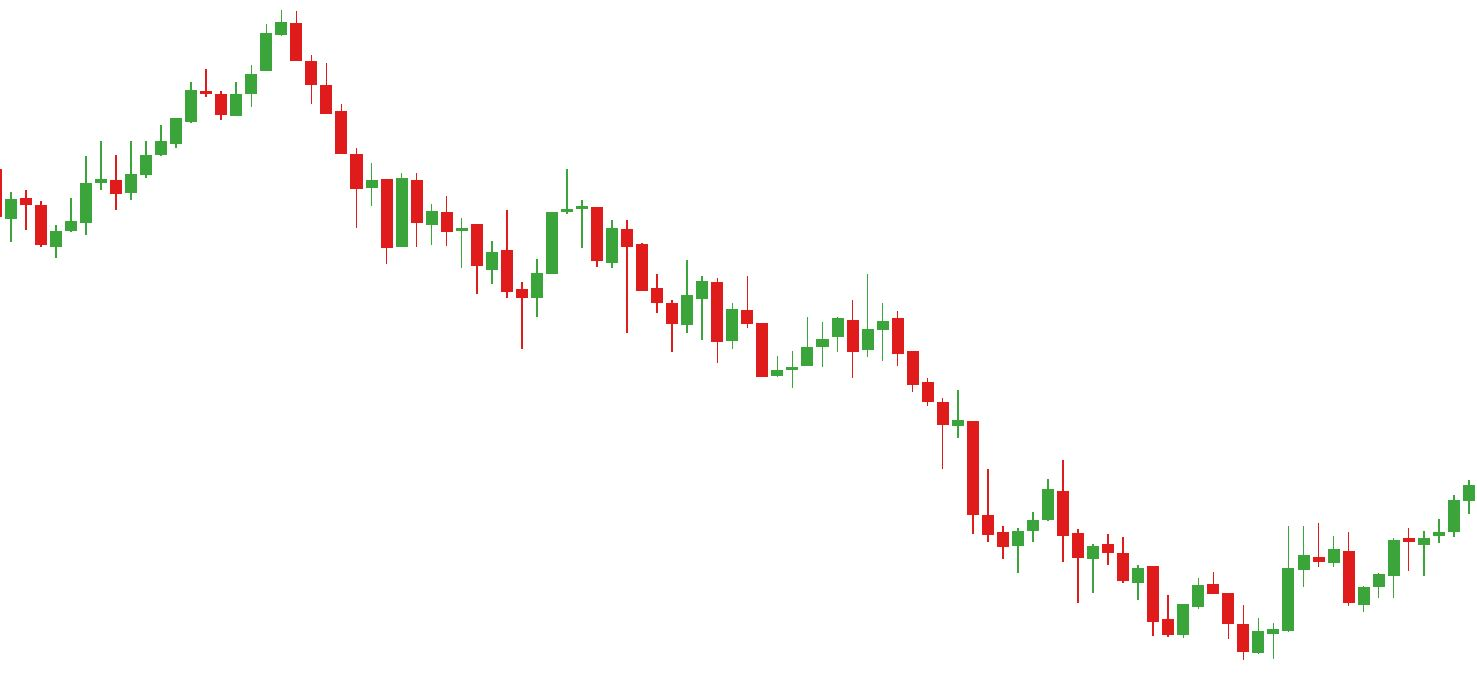buy: (1160, 591, 1265, 659)
sell: (500, 166, 604, 296)
